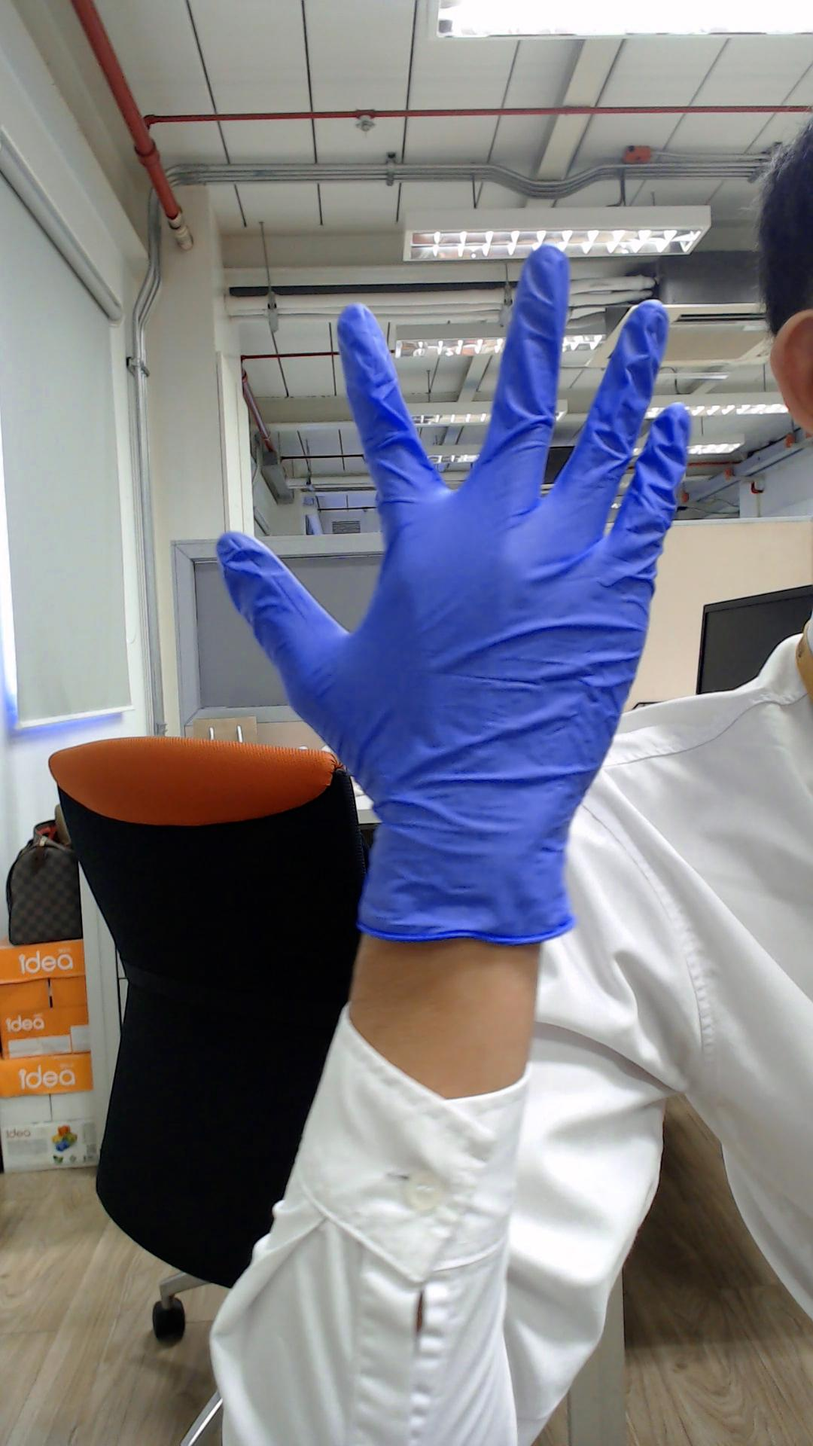gloves: (214, 221, 723, 792)
